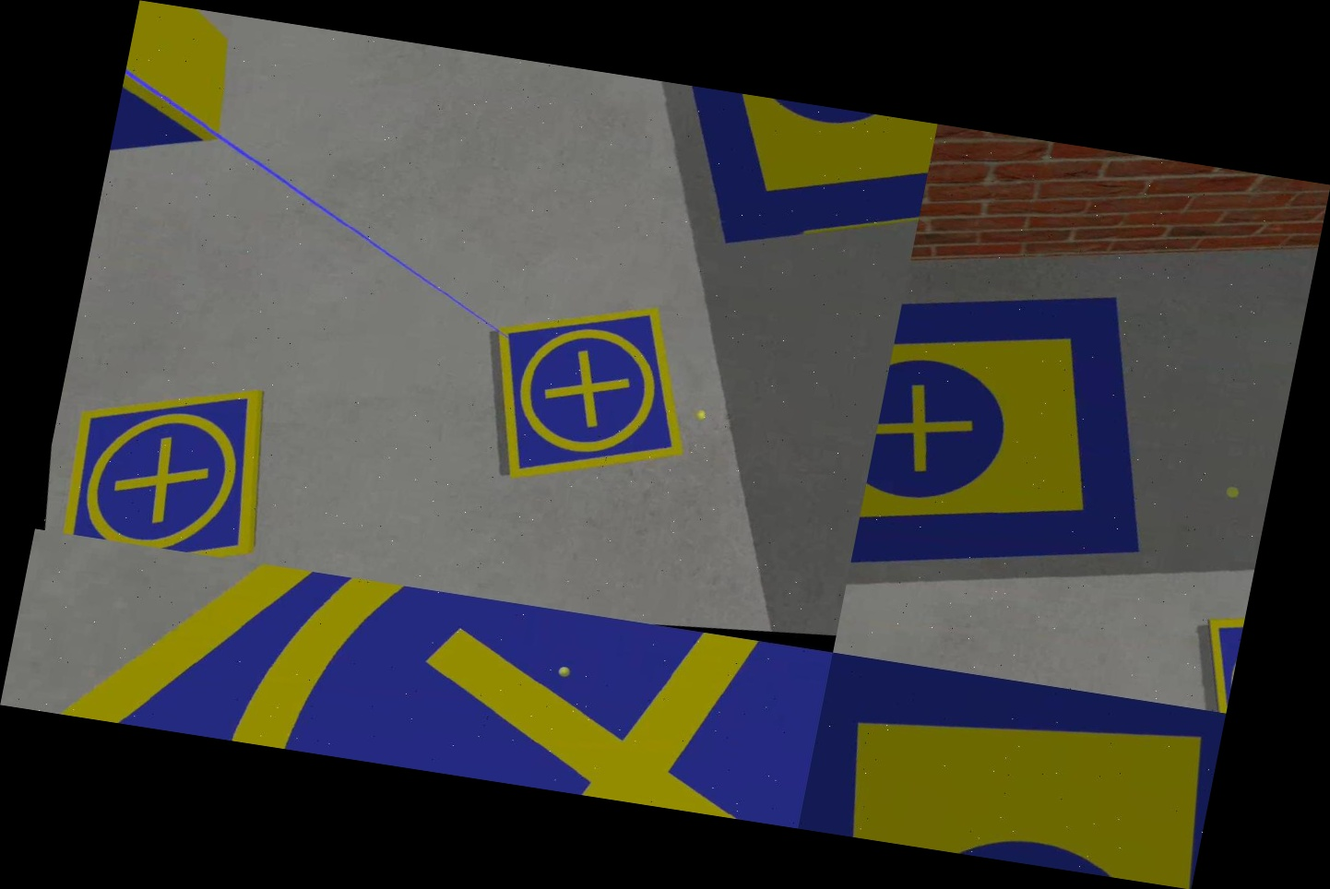large_base: (844, 258, 1198, 640), (798, 652, 1225, 889), (599, 77, 937, 280)
small_base: (0, 528, 833, 828), (461, 279, 716, 509), (44, 360, 291, 563)
